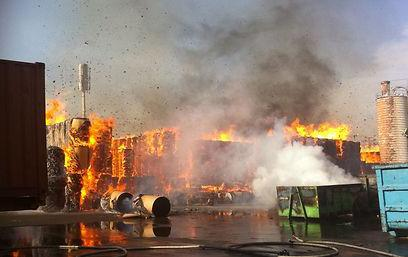fire: (72, 114, 238, 216), (281, 112, 383, 166), (45, 97, 70, 124)
